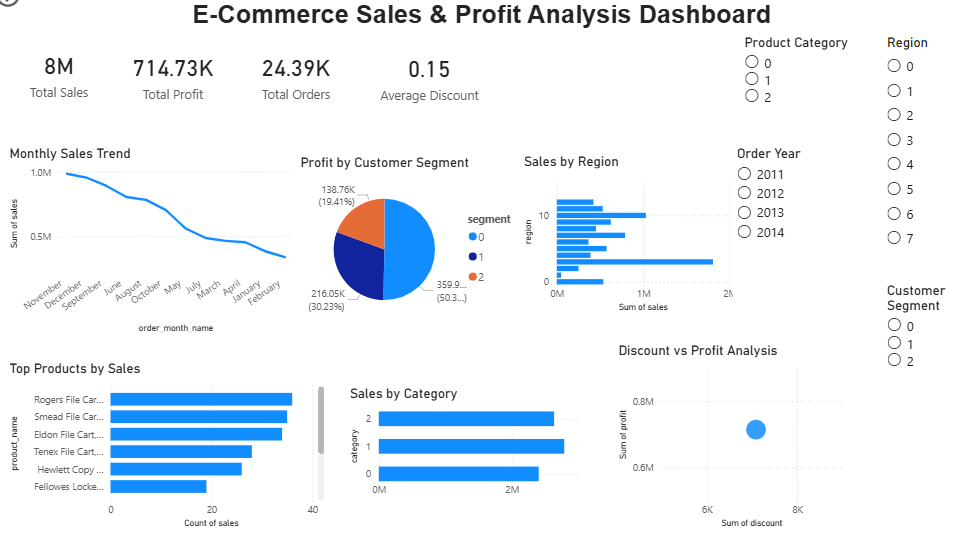

The dashboard page shown, as its layout file describes it:
{"tool":"powerbi","page":{"name":"Page 1","canvas":[1280,720],"ordinal":0},"visuals":[{"type":"card","fields":{"Values":["Sum(powerbi_superstore_dataset.sales)"]},"box":[0,47.2,168.2,141.7],"z":0},{"type":"card","fields":{"Values":["Sum(powerbi_superstore_dataset.profit)"]},"box":[143.6,45.4,168.2,149.3],"z":1000},{"type":"card","fields":{"Values":["Count(powerbi_superstore_dataset.order_id)"]},"box":[298.6,45.4,168.2,149.3],"z":2000},{"type":"actionButton","box":[0,0,100,40],"z":3000},{"type":"card","fields":{"Values":["Avg(powerbi_superstore_dataset.discount)"]},"box":[466.8,47.2,168.2,149.3],"z":4000},{"type":"clusteredBarChart","title":"Sales by Category","fields":{"Y":["Sum(powerbi_superstore_dataset.sales)"],"Category":["powerbi_superstore_dataset.category"]},"box":[446,512.1,306.1,149.3],"z":5000},{"type":"pieChart","title":"Profit by Customer Segment","fields":{"Category":["powerbi_superstore_dataset.segment"],"Y":["Sum(powerbi_superstore_dataset.profit)"]},"box":[383.6,221.1,294.8,219.2],"z":6000},{"type":"lineChart","title":"Monthly Sales Trend","fields":{"Category":["powerbi_superstore_dataset.order_month_name"],"Y":["Sum(powerbi_superstore_dataset.sales)"]},"box":[17,209.8,366.6,240],"z":7000},{"type":"barChart","title":"Sales by Region","fields":{"Y":["Sum(powerbi_superstore_dataset.sales)"],"Category":["powerbi_superstore_dataset.region"]},"box":[665.2,219.2,277.8,204.1],"z":8000},{"type":"barChart","title":"Top Products by Sales","fields":{"Category":["powerbi_superstore_dataset.product_name"],"Y":["Count(powerbi_superstore_dataset.sales)"]},"box":[17,480,406.3,215.4],"z":9000},{"type":"scatterChart","title":"Discount vs Profit Analysis","fields":{"X":["Sum(powerbi_superstore_dataset.discount)"],"Y":["Sum(powerbi_superstore_dataset.profit)"],"Size":["Sum(powerbi_superstore_dataset.sales)"]},"box":[784.3,457.3,298.6,238.1],"z":10000},{"type":"listSlicer","title":"Region","fields":{"Values":["powerbi_superstore_dataset.region"]},"box":[1122.5,69.9,134.2,277.8],"z":11000},{"type":"listSlicer","title":"Product Category","fields":{"Values":["powerbi_superstore_dataset.category"]},"box":[943,69.9,179.5,200.3],"z":12000},{"type":"listSlicer","title":"Order Year","fields":{"Values":["powerbi_superstore_dataset.order_year"]},"box":[933.6,209.8,115.3,223],"z":13000},{"type":"listSlicer","title":"Customer Segment","fields":{"Values":["powerbi_superstore_dataset.segment"]},"box":[1122.5,381.7,96.4,224.9],"z":14000},{"type":"textbox","box":[43.5,20.8,1147.1,49.1],"z":15000}]}

Visuals, with their boxes in screenshot pixels (x1, y1, x2, y2), scaled from the page's 1280x720 canvas onto the 967x541 screenshot:
card - Sum(powerbi_superstore_dataset.sales): locate(0, 35, 127, 142)
card - Sum(powerbi_superstore_dataset.profit): locate(108, 34, 236, 146)
card - Count(powerbi_superstore_dataset.order_id): locate(226, 34, 353, 146)
actionButton: locate(0, 0, 76, 30)
card - Avg(powerbi_superstore_dataset.discount): locate(353, 35, 480, 148)
"Sales by Category" clusteredBarChart: locate(337, 385, 568, 497)
"Profit by Customer Segment" pieChart: locate(290, 166, 513, 331)
"Monthly Sales Trend" lineChart: locate(13, 158, 290, 338)
"Sales by Region" barChart: locate(503, 165, 712, 318)
"Top Products by Sales" barChart: locate(13, 361, 320, 523)
"Discount vs Profit Analysis" scatterChart: locate(593, 344, 818, 523)
"Region" listSlicer: locate(848, 53, 949, 261)
"Product Category" listSlicer: locate(712, 53, 848, 203)
"Order Year" listSlicer: locate(705, 158, 792, 325)
"Customer Segment" listSlicer: locate(848, 287, 921, 456)
textbox: locate(33, 16, 899, 53)
